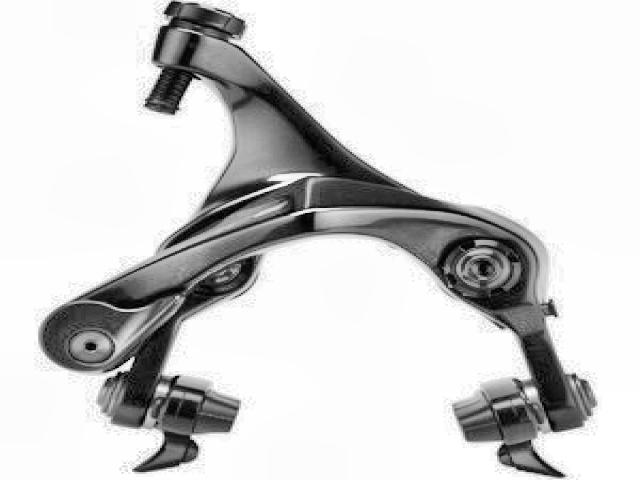rim_brake: (31, 0, 596, 480)
